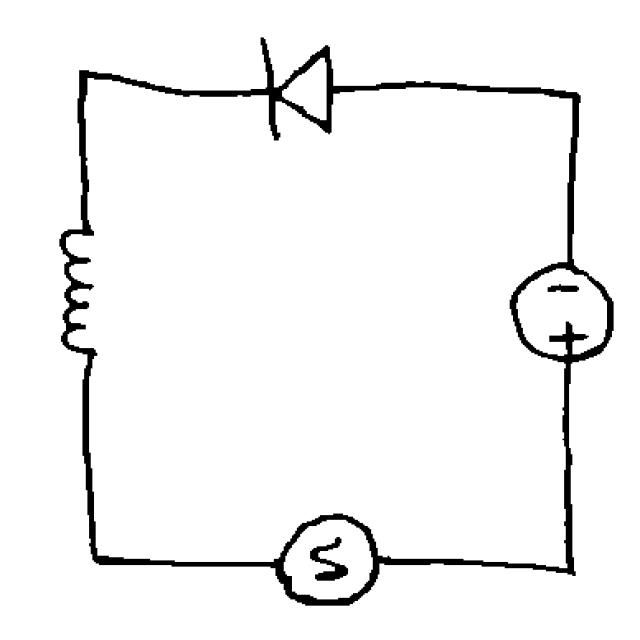ac: (272, 496, 384, 618)
dc: (487, 242, 622, 380)
diode: (250, 32, 344, 148)
inductor: (46, 214, 111, 370)
